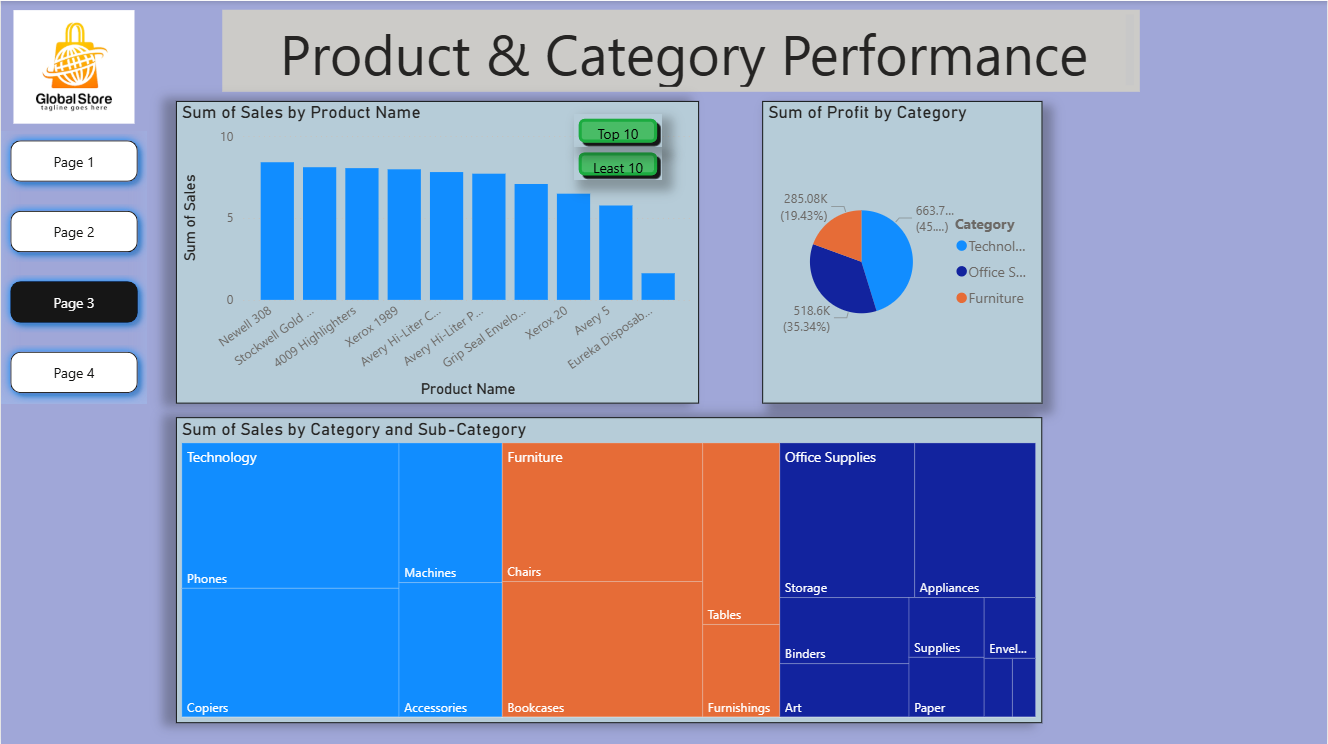

What the dashboard file says about the page in this screenshot:
{"tool":"powerbi","page":{"name":"Page 3","canvas":[1280,720],"ordinal":2},"visuals":[{"type":"pieChart","fields":{"Y":["Sum(Orders.Profit)"],"Category":["Orders.Category"]},"box":[734.7,96.5,270.2,292],"z":1000},{"type":"clusteredColumnChart","fields":{"Category":["Orders.Product Name"],"Y":["Sum(Orders.Sales)"]},"box":[168.9,96.5,504.7,292.1],"z":1500,"group":"g2"},{"type":"textbox","box":[214,8.6,885.3,79.5],"z":2000},{"type":"treemap","fields":{"Group":["Orders.Category"],"Values":["Sum(Orders.Sales)"],"Details":["Orders.Sub-Category"]},"box":[168.9,401.7,836.1,295.6],"z":3000},{"type":"pageNavigator","box":[0,125.5,141.2,263],"z":4000},{"type":"image","box":[7.2,0,126.7,126.7],"z":5000},{"type":"actionButton","box":[552.7,142.2,85.7,32.1],"z":15000,"group":"g1"},{"type":"actionButton","box":[552.7,109.1,85.7,33.1],"z":15500,"group":"g1"},{"type":"group","id":"g1","title":"Group 1","box":[552.7,109.1,85.7,66.4],"z":19001,"group":"g2"},{"type":"group","id":"g2","title":"Group 2","box":[168.9,96.5,504.7,292.1],"z":19002}]}

Visuals, with their boxes in screenshot pixels (x1, y1, x2, y2), scaled from the page's 1280x720 canvas onto the 1328x744 screenshot:
pieChart - Sum(Orders.Profit) x Orders.Category: {"left": 762, "top": 100, "right": 1043, "bottom": 401}
clusteredColumnChart - Orders.Product Name x Sum(Orders.Sales): {"left": 175, "top": 100, "right": 699, "bottom": 402}
textbox: {"left": 222, "top": 9, "right": 1141, "bottom": 91}
treemap - Orders.Category x Sum(Orders.Sales): {"left": 175, "top": 415, "right": 1043, "bottom": 721}
pageNavigator: {"left": 0, "top": 130, "right": 146, "bottom": 401}
image: {"left": 7, "top": 0, "right": 139, "bottom": 131}
actionButton: {"left": 573, "top": 147, "right": 662, "bottom": 180}
actionButton: {"left": 573, "top": 113, "right": 662, "bottom": 147}
"Group 1" group: {"left": 573, "top": 113, "right": 662, "bottom": 181}
"Group 2" group: {"left": 175, "top": 100, "right": 699, "bottom": 402}
